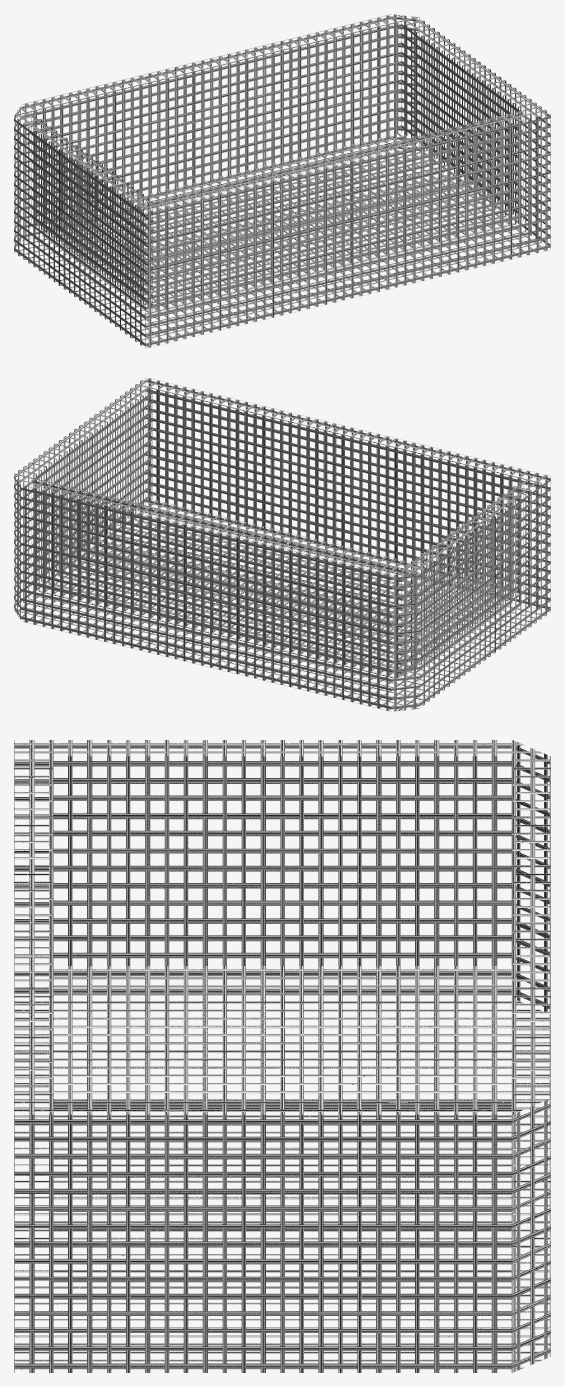
The model's file is store basket.obj.
The picture shows the model from 3 angles, top to bottom: view 1: azimuth 30°, elevation 25°; view 2: azimuth 150°, elevation 25°; view 3: azimuth 270°, elevation 25°; orthographic projection. The views are drawn at different scales.
Visible parts, largest first — view 1: store basket; view 2: store basket; view 3: store basket.
Part boxes in pixels (bbox=[...]): store basket: bbox=[14, 14, 550, 348]; store basket: bbox=[14, 377, 550, 711]; store basket: bbox=[14, 740, 550, 1372].
Bounding box in the file's own units: 5.75 × 1.85 × 3.48.
1 material, 1 textured.
